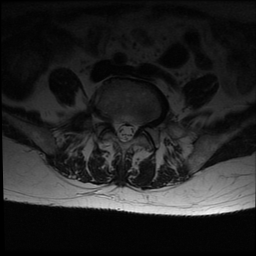CCS_normal: (122, 116, 130, 150)
LFS_stenosis: (138, 112, 146, 136)
LLS_normal: (130, 114, 138, 146)
RFS_stenosis: (105, 107, 113, 134)
RLS_normal: (113, 113, 122, 144)
